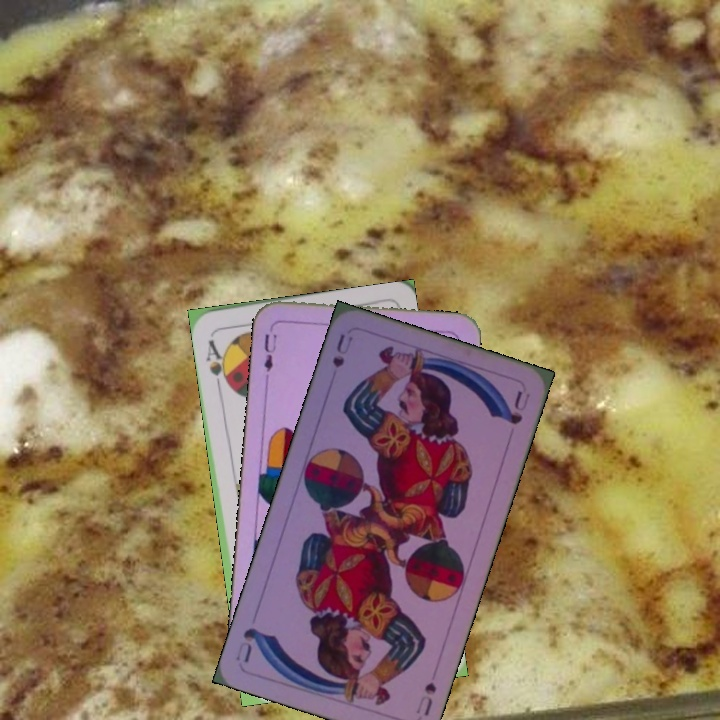EU: (259, 322, 279, 381)
SA: (201, 336, 232, 391)
SU: (328, 330, 356, 370), (412, 678, 439, 719)
